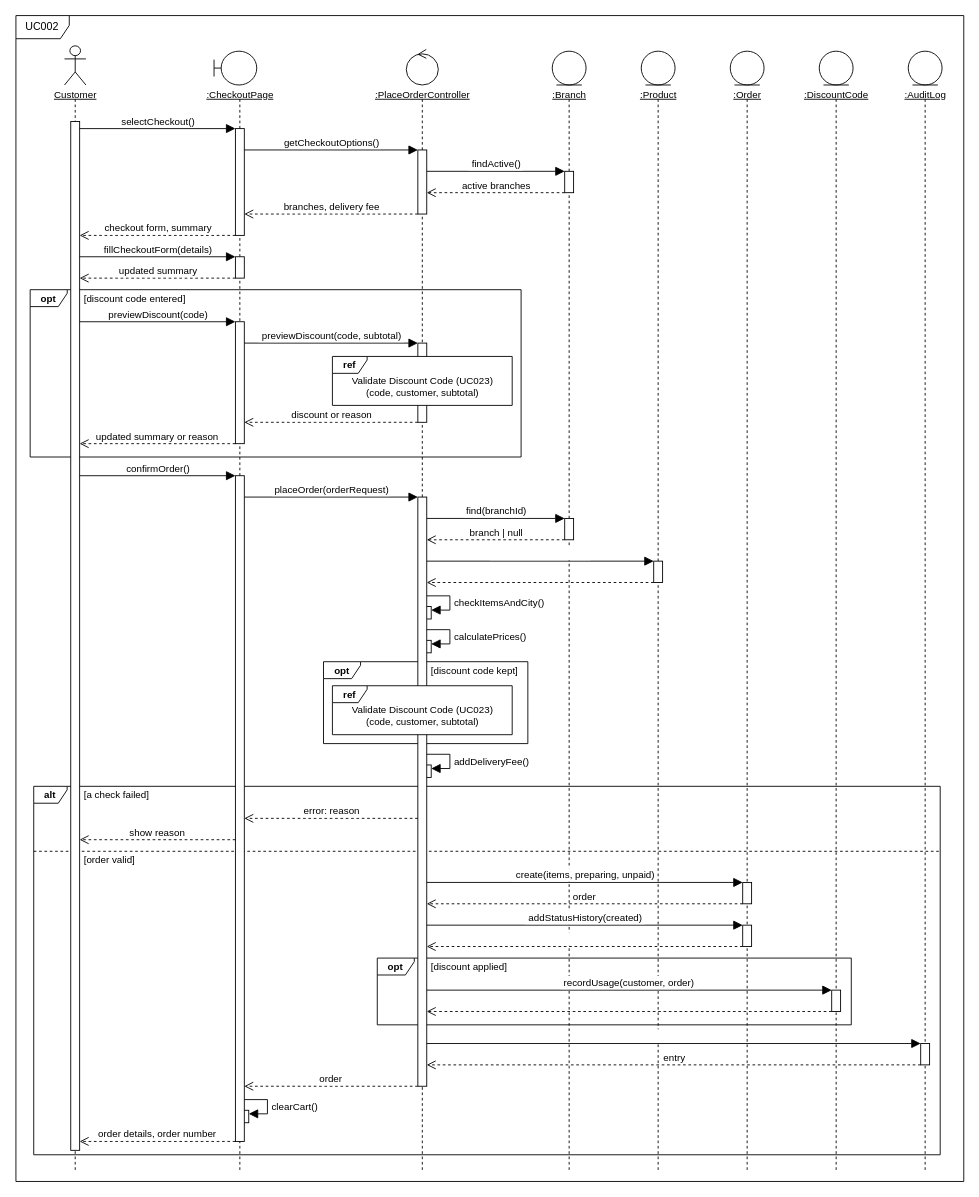
This 979x1197 diagram has some shape labels left out. The shapes that lost their labels are listed below. From the top down, each one's centre as x and y in pixels, then its label:
At [540,553]: "findOnline(productIds)".
At [540,574]: "products".
At [584,938]: "history".
At [628,1003]: "usage".
At [673,1035]: "record(orderCreated)".
